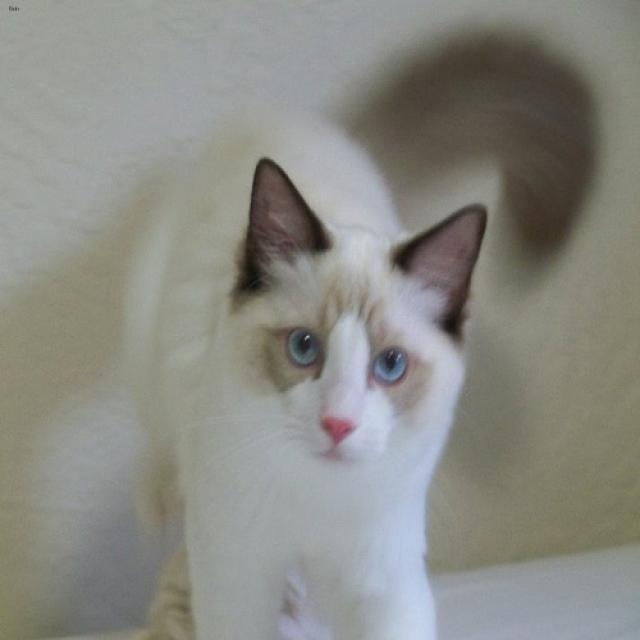Ragdoll: (217, 153, 489, 507)
